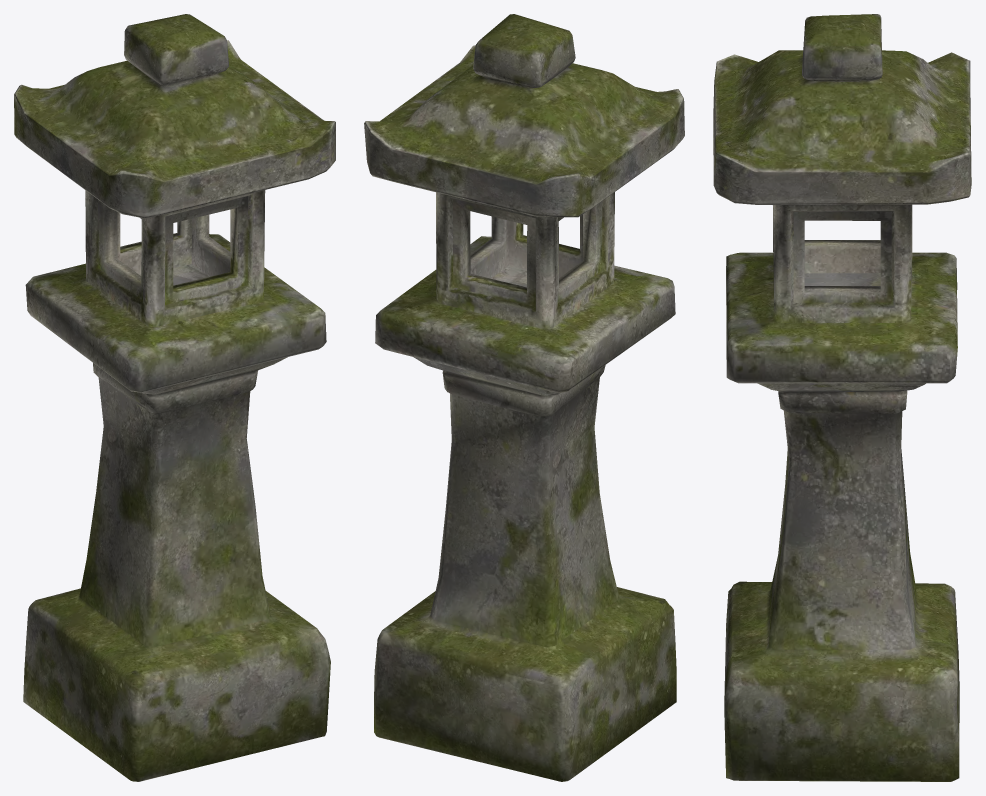
Rendered from stone-lantern.glb.
3 views of the same model, side by side, from view 1: azimuth 30°, elevation 25°; view 2: azimuth 150°, elevation 25°; view 3: azimuth 270°, elevation 25° (orthographic). The views are drawn at different scales.
Parts seen in each view (by area): view 1: Lamp_LoPoly; view 2: Lamp_LoPoly; view 3: Lamp_LoPoly.
Part boxes in pixels (x1,y1,x2,y2): Lamp_LoPoly: [14, 14, 335, 781]; Lamp_LoPoly: [364, 14, 684, 781]; Lamp_LoPoly: [713, 14, 971, 781].
Size of the model in its own units: 0.7291 by 2.21 by 0.7278.
1 material, 1 textured.
